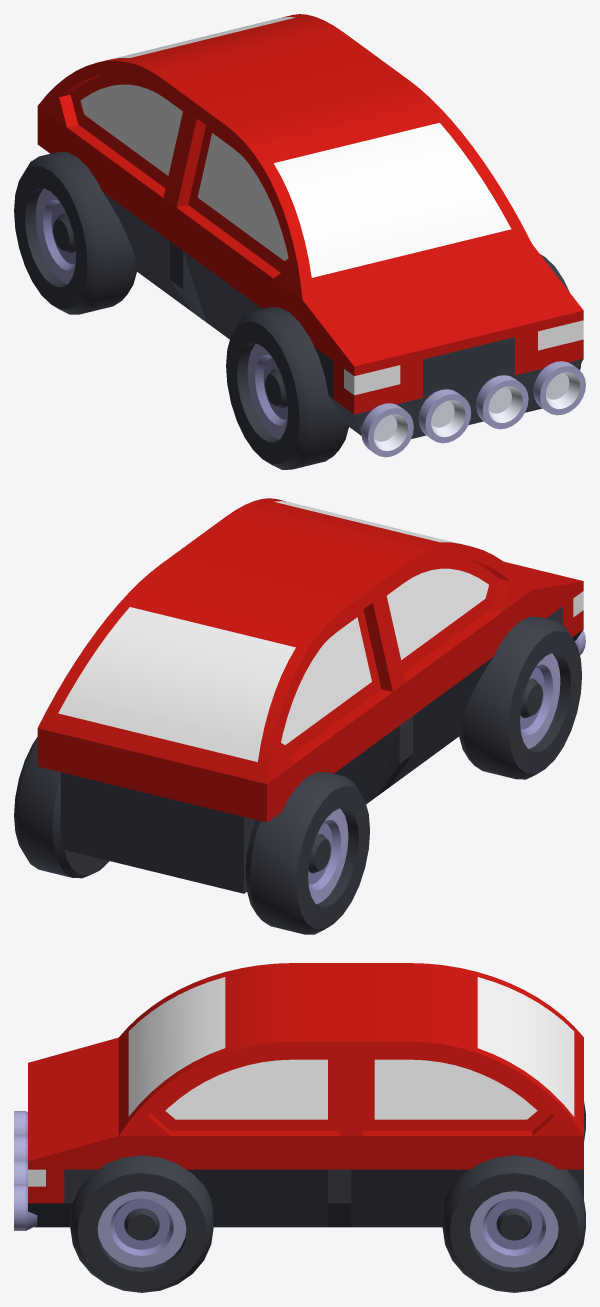
The model's file is car1.fbx.
The picture shows the model from 3 angles, top to bottom: view 1: azimuth 30°, elevation 25°; view 2: azimuth 150°, elevation 25°; view 3: azimuth 270°, elevation 25°; orthographic projection. The views are drawn at different scales.
Visible parts, largest first — view 1: mergedBlocks; view 2: mergedBlocks; view 3: mergedBlocks.
Part boxes in pixels (box(x1,y1,x2,y2)): mergedBlocks: box(14, 14, 585, 469); mergedBlocks: box(14, 498, 585, 934); mergedBlocks: box(14, 963, 585, 1292).
Bounding box in the file's own units: 12.33 × 11.08 × 24.58.
